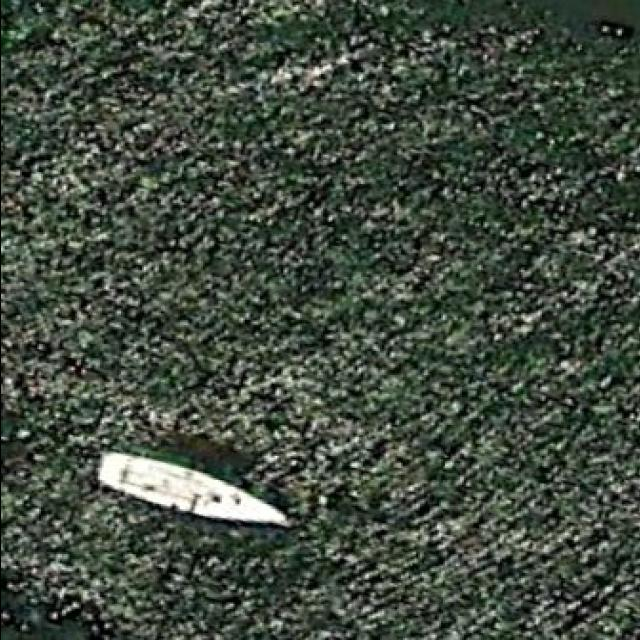ship: (97, 446, 293, 526)
